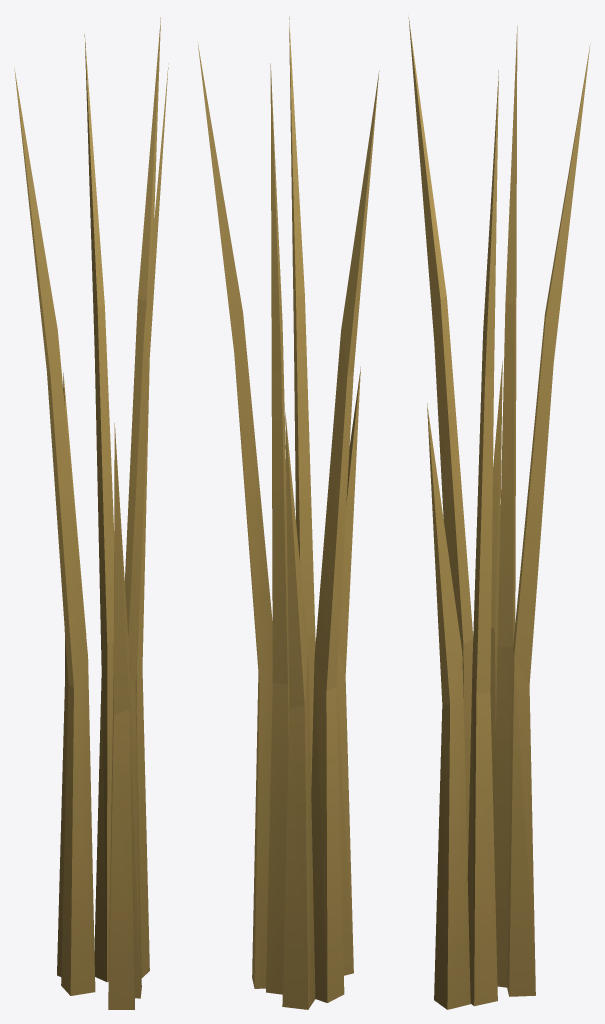
File: grass_reed.glb
3 renders of one model, left to right at view 1: azimuth 30°, elevation 25°; view 2: azimuth 150°, elevation 25°; view 3: azimuth 330°, elevation 25°, orthographic.
Parts seen in each view (by area): view 1: GrassHigh_D_1; view 2: GrassHigh_D_1; view 3: GrassHigh_D_1.
Part boxes in pixels (<box>): GrassHigh_D_1: <box>14,17,168,1009</box>; GrassHigh_D_1: <box>197,16,379,1009</box>; GrassHigh_D_1: <box>408,17,590,1009</box>.
Bounding box in the file's own units: 0.0824 × 0.45 × 0.0551.
1 material, 1 textured.
